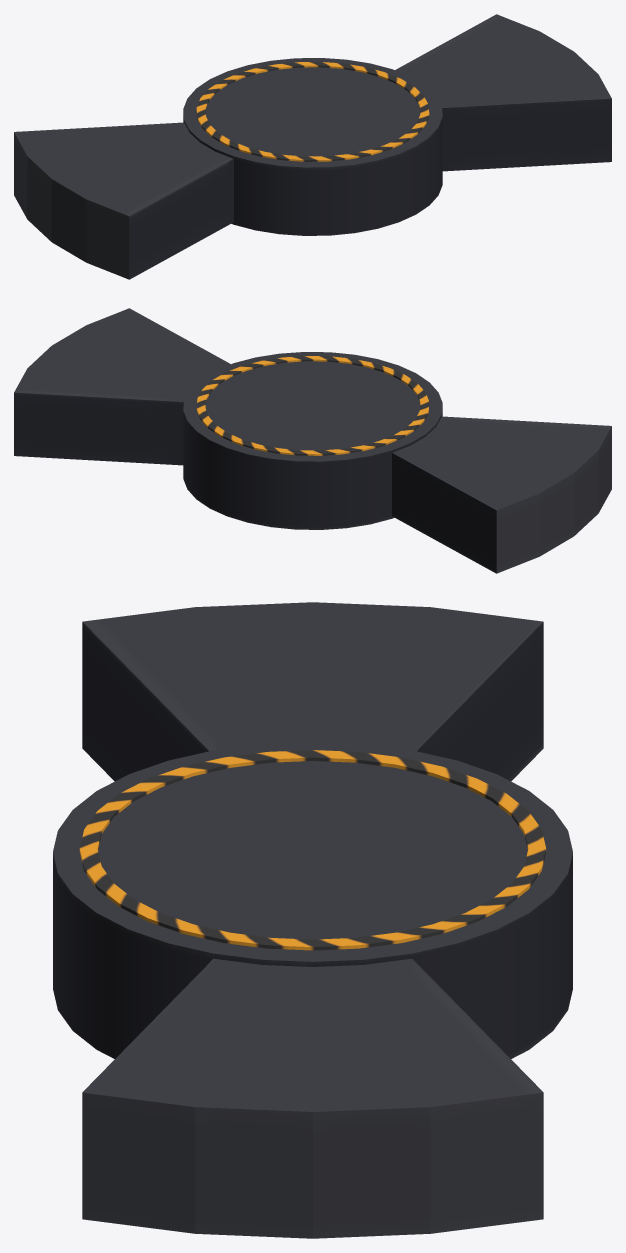
Rendered from platform_7_middle.fbx.
The picture shows the model from 3 angles, top to bottom: view 1: azimuth 30°, elevation 25°; view 2: azimuth 150°, elevation 25°; view 3: azimuth 270°, elevation 25°; orthographic projection. The views are drawn at different scales.
Visible parts, largest first — view 1: Cylinder.018, Cylinder.017, Cylinder.019; view 2: Cylinder.018, Cylinder.017, Cylinder.019; view 3: Cylinder.018, Cylinder.017, Cylinder.019.
Boxes of the visible parts, x1=… form: Cylinder.018: x1=14, y1=14, x2=611, y2=279; Cylinder.017: x1=183, y1=58, x2=442, y2=235; Cylinder.019: x1=196, y1=62, x2=429, y2=161; Cylinder.018: x1=14, y1=308, x2=611, y2=573; Cylinder.017: x1=183, y1=352, x2=442, y2=529; Cylinder.019: x1=196, y1=356, x2=429, y2=455; Cylinder.018: x1=82, y1=602, x2=543, y2=1238; Cylinder.017: x1=53, y1=742, x2=572, y2=1058; Cylinder.019: x1=79, y1=750, x2=546, y2=950.
Size of the model in its own units: 2041 by 880 by 262.
